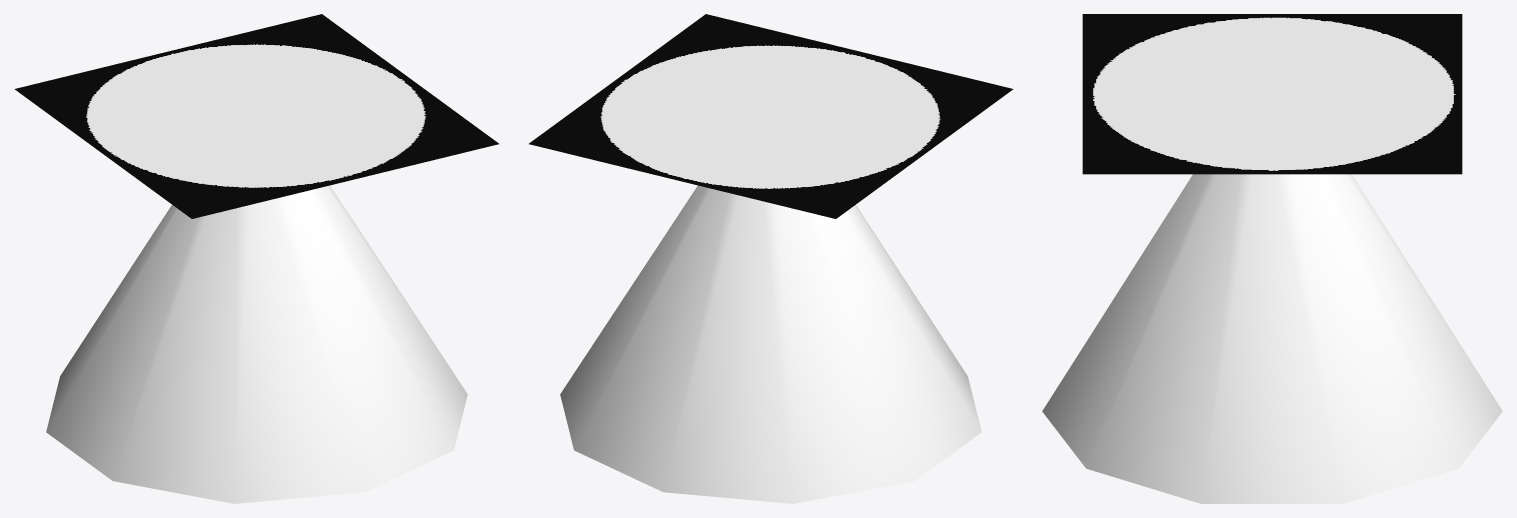
The model's file is Roof Spotlight.fbx.
3 renders of one model, left to right at view 1: azimuth 30°, elevation 25°; view 2: azimuth 150°, elevation 25°; view 3: azimuth 270°, elevation 25°, orthographic. The views are drawn at different scales.
Visible parts, largest first — view 1: Roof Spotlight; view 2: Roof Spotlight; view 3: Roof Spotlight.
Part boxes in pixels (left/top/right/bottom): Roof Spotlight: left=14, top=14, right=498, bottom=503; Roof Spotlight: left=529, top=14, right=1013, bottom=503; Roof Spotlight: left=1042, top=14, right=1502, bottom=503.
Bounding box in the file's own units: 430 × 344 × 453.
